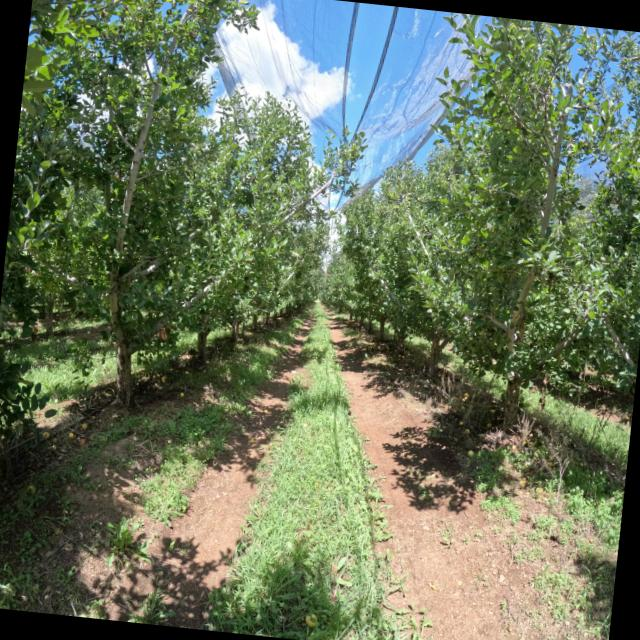-FireBlight-: (160, 330, 168, 341)
